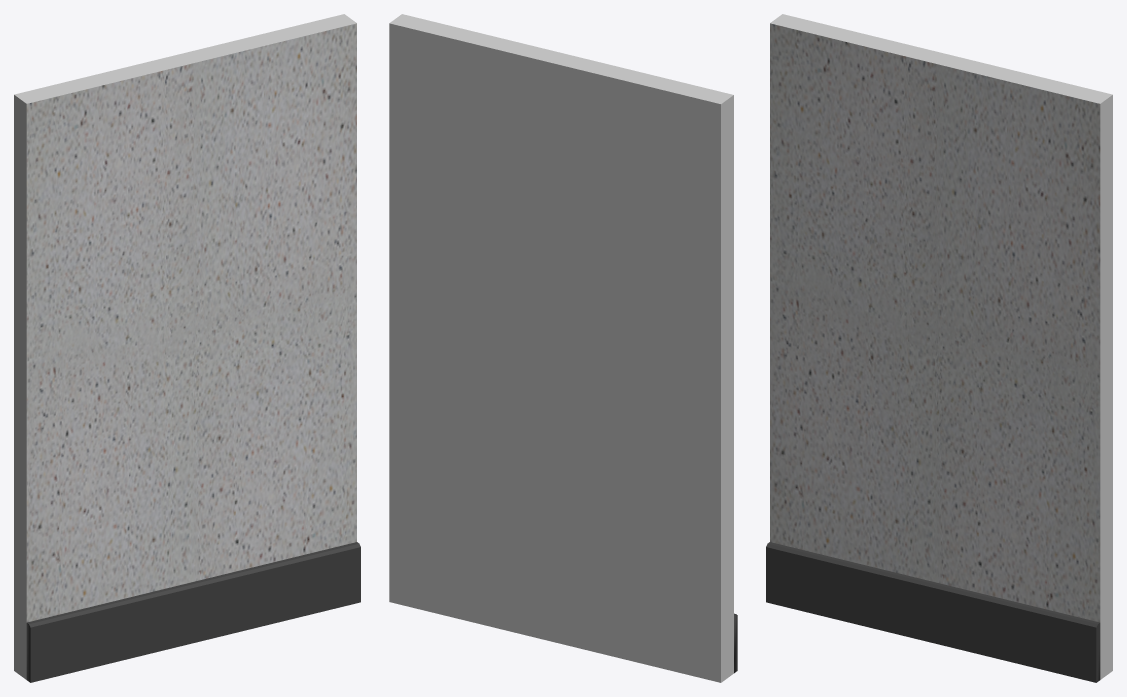
File: House_Corridor_Wall_Half.fbx
3 views of the same model, side by side, from view 1: azimuth 30°, elevation 25°; view 2: azimuth 150°, elevation 25°; view 3: azimuth 330°, elevation 25° (orthographic).
Visible parts, largest first — view 1: WallFloor2_01__6_.004; view 2: WallFloor2_01__6_.004; view 3: WallFloor2_01__6_.004.
Part boxes in pixels (x1,y1,x2,y2): WallFloor2_01__6_.004: (14, 14, 360, 682); WallFloor2_01__6_.004: (389, 14, 737, 682); WallFloor2_01__6_.004: (766, 14, 1112, 682).
Size of the model in its own units: 150 by 250 by 13.
